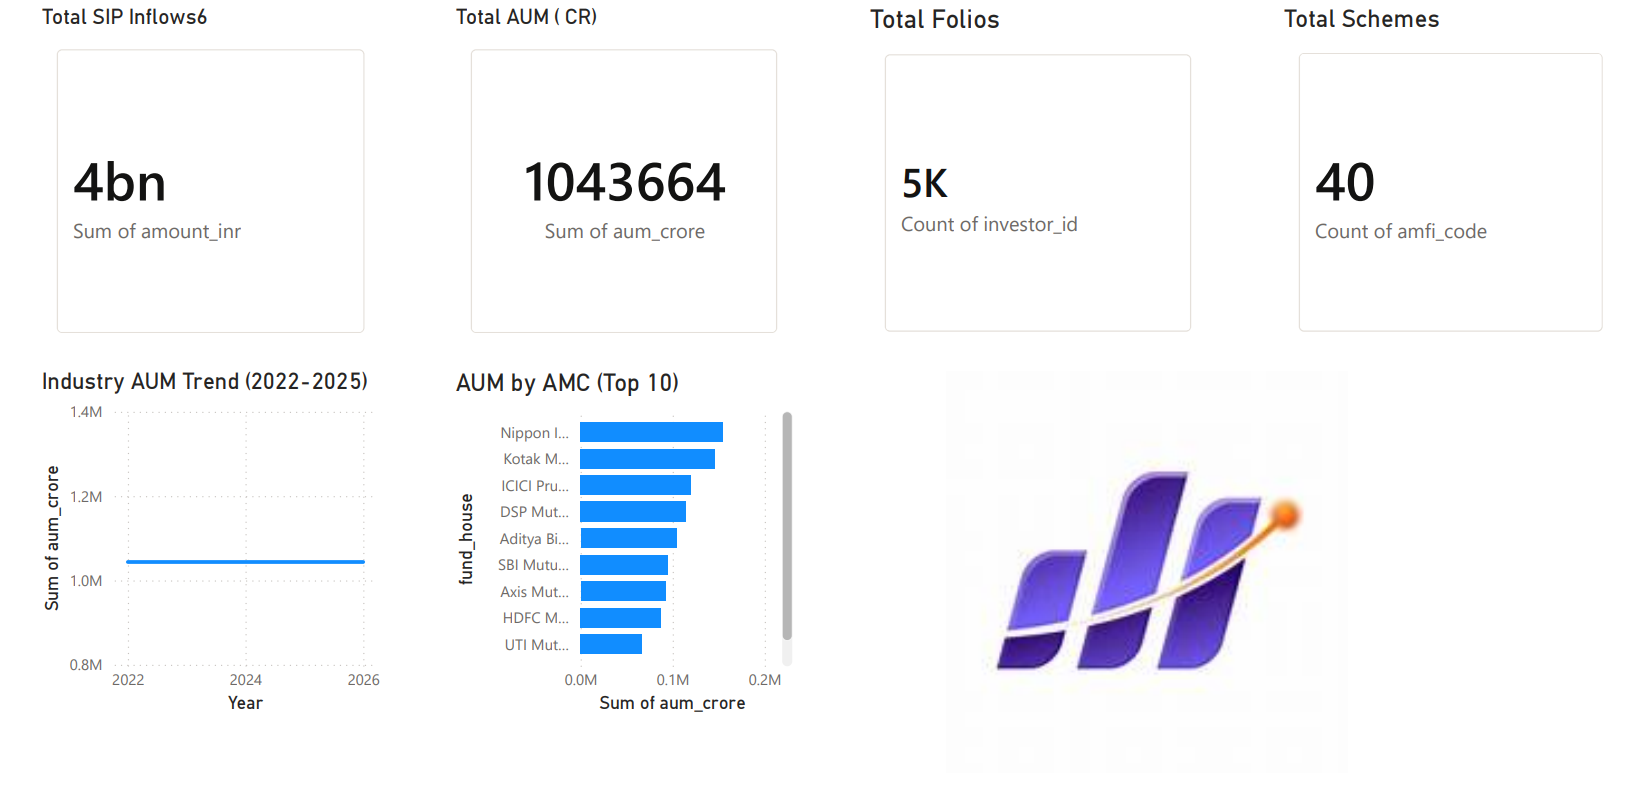

This screenshot's page, from the dashboard's own definition file:
{"tool":"powerbi","page":{"name":"Industry Overview","canvas":[1280,720],"ordinal":0},"visuals":[{"type":"cardVisual","title":"Total AUM ( CR) ","fields":{"Data":["Sum(03_scheme_performance.aum_crore)"]},"box":[341.5,81,279.1,280.9],"z":0},{"type":"cardVisual","title":"Total SIP Inflows6","fields":{"Data":["Sum(02_investor_transactions.amount_inr)"]},"box":[10,81,280,281],"z":1000},{"type":"cardVisual","title":"Total Folios","fields":{"Data":["Count(02_investor_transactions.investor_id)"]},"box":[672.1,81,279.4,279.4],"z":2000},{"type":"cardVisual","title":"Total Schemes","fields":{"Data":["CountNonNull(06_fund_master .amfi_code)"]},"box":[1003,81,277,279],"z":3000},{"type":"lineChart","title":"Industry AUM Trend (2022-2025)","fields":{"Y":["Sum(03_scheme_performance.aum_crore)"],"Category":["01_nav_history.date.Variation.Date Hierarchy.Year","01_nav_history.date.Variation.Date Hierarchy.Quarter","01_nav_history.date.Variation.Date Hierarchy.Month","01_nav_history.date.Variation.Date Hierarchy.Day"]},"box":[10,372,280,281],"z":4000},{"type":"clusteredBarChart","title":"AUM by AMC (Top 10)","fields":{"Category":["03_scheme_performance.fund_house"],"Y":["Sum(03_scheme_performance.aum_crore)"]},"box":[341,372,279,281],"z":5000},{"type":"image","box":[738.4,372,320.7,326.4],"z":5001}]}

Visuals, with their boxes on the page's 1280x720 design canvas (x1, y1, x2, y2). These are canvas units, not pixel positions in the 1627x811 screenshot, which may show the page scaled, cropped or inside an application window:
"Total AUM ( CR) " cardVisual: box(342, 81, 621, 362)
"Total SIP Inflows6" cardVisual: box(10, 81, 290, 362)
"Total Folios" cardVisual: box(672, 81, 952, 360)
"Total Schemes" cardVisual: box(1003, 81, 1280, 360)
"Industry AUM Trend (2022-2025)" lineChart: box(10, 372, 290, 653)
"AUM by AMC (Top 10)" clusteredBarChart: box(341, 372, 620, 653)
image: box(738, 372, 1059, 698)
